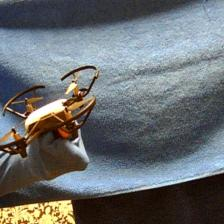drone: (0, 63, 99, 162)
